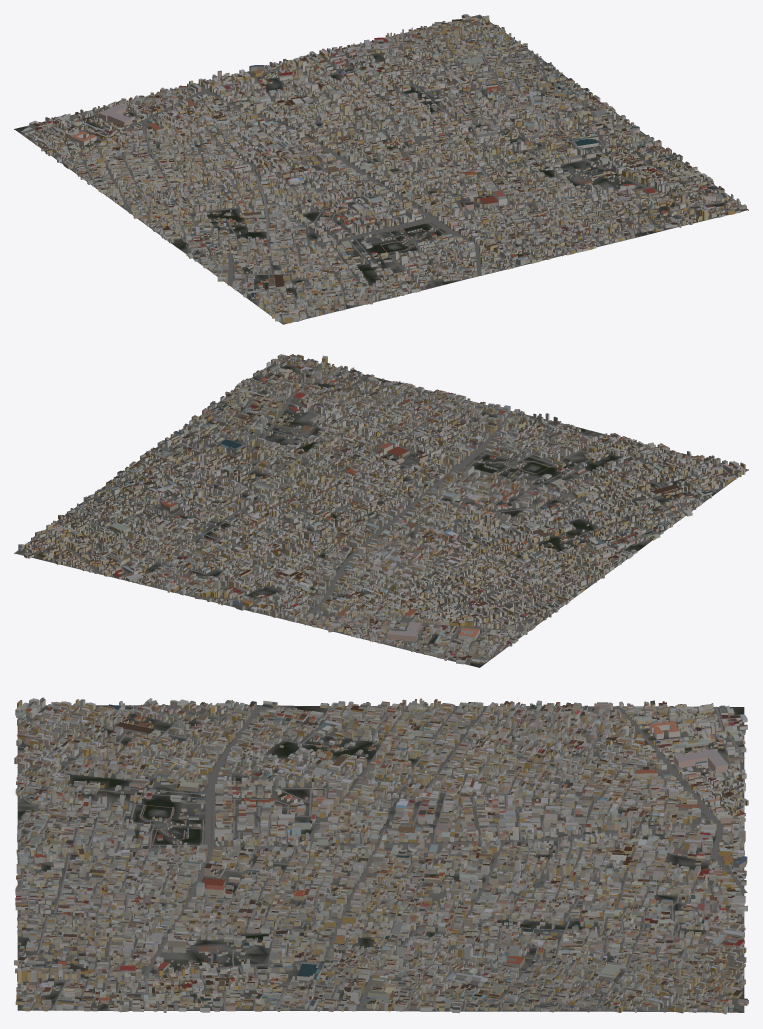
3 renders of one model, top to bottom at view 1: azimuth 30°, elevation 25°; view 2: azimuth 150°, elevation 25°; view 3: azimuth 270°, elevation 25°, orthographic. The views are drawn at different scales.
Visible parts, largest first — view 1: buildings, ground, roads; view 2: buildings, ground, roads; view 3: buildings, ground, roads.
Part boxes in pixels (x1,y1,x2,y2): buildings: (21,14,746,323); ground: (14,14,748,324); roads: (21,23,735,323); buildings: (18,354,745,664); ground: (14,355,748,667); roads: (28,358,747,664); buildings: (14,697,748,1014); ground: (17,705,744,1012); roads: (17,704,747,1012).
Bounding box in the file's own units: 1422 × 36.51 × 1416.
